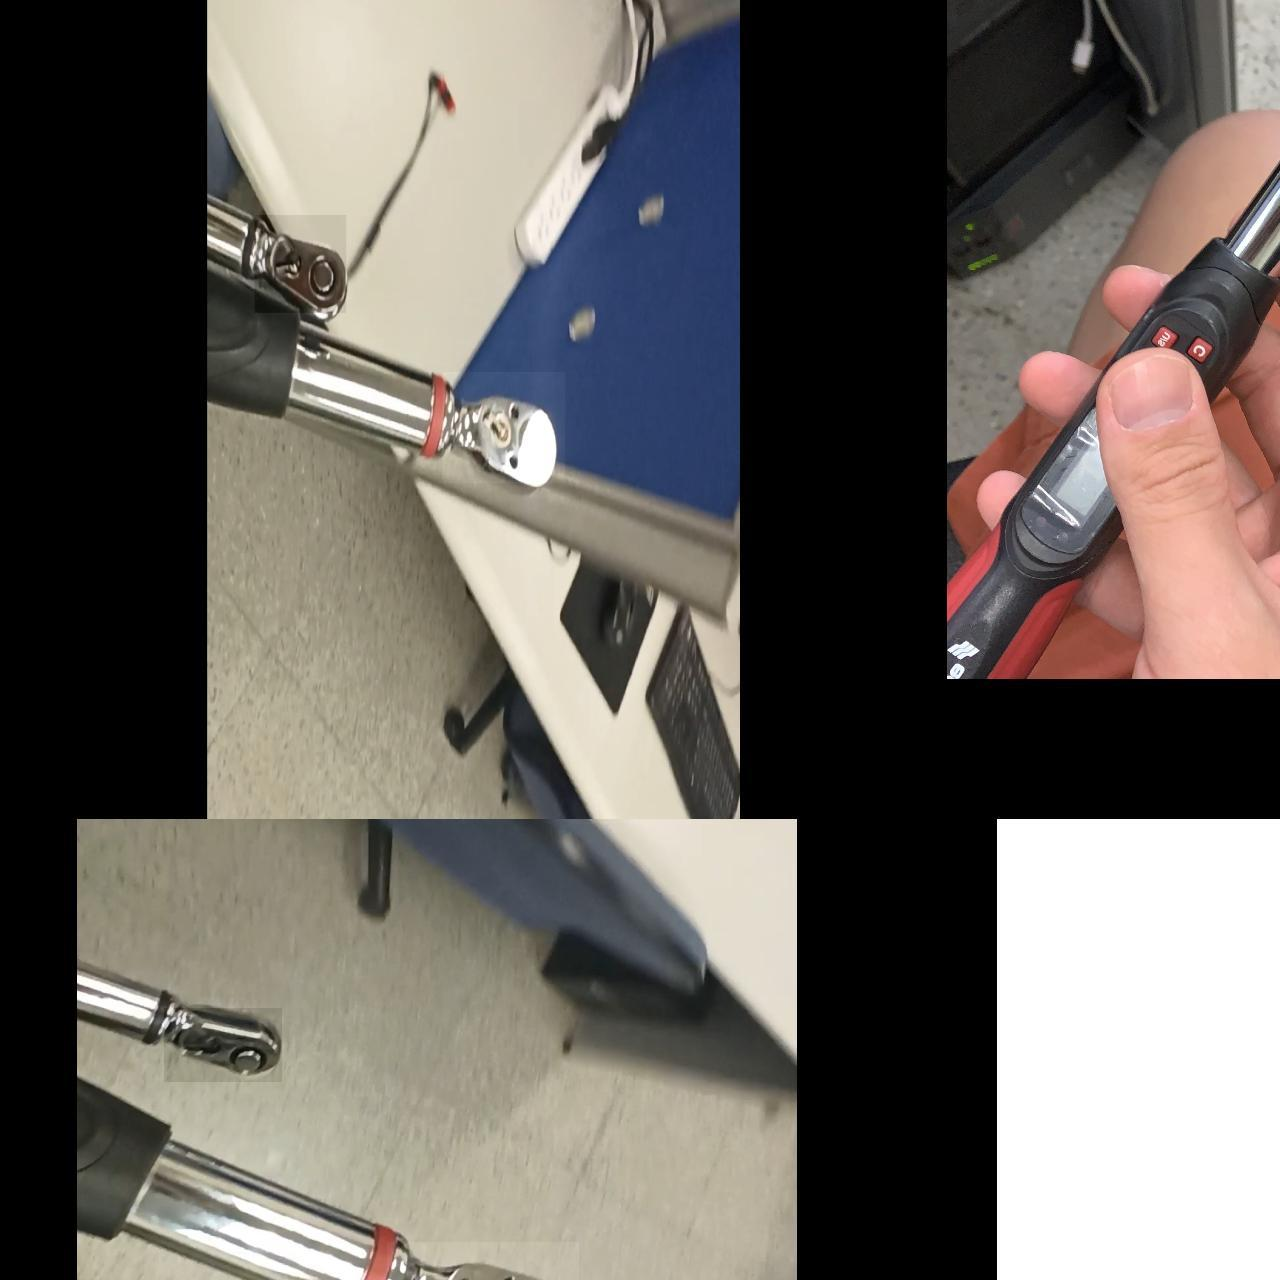Tool: (443, 370, 565, 483), (254, 215, 347, 312), (164, 1007, 282, 1081), (387, 1241, 579, 1280)
